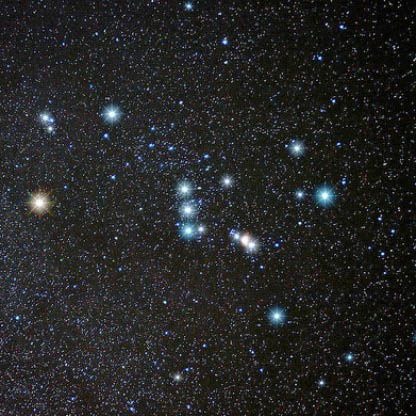Orion: (21, 177, 60, 225), (97, 95, 127, 130), (263, 296, 288, 336), (311, 179, 342, 209), (177, 222, 204, 244), (172, 173, 196, 197), (174, 201, 203, 218)
